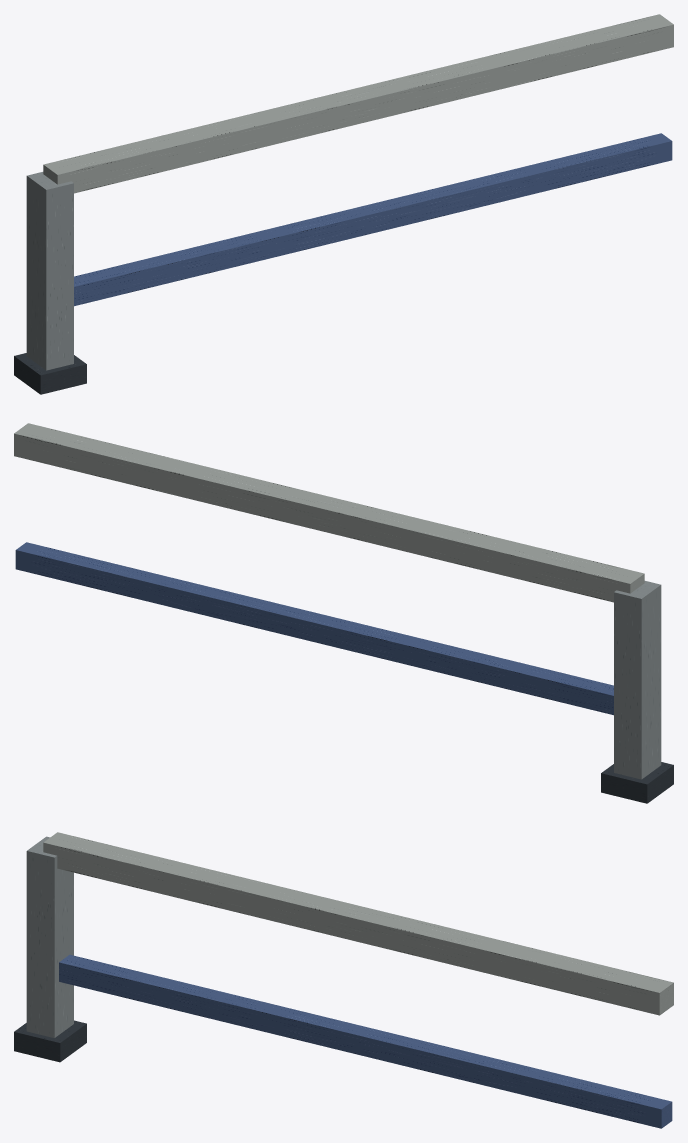
The model's file is Rail4m.fbx.
The picture shows the model from 3 angles, top to bottom: view 1: azimuth 30°, elevation 25°; view 2: azimuth 150°, elevation 25°; view 3: azimuth 330°, elevation 25°; orthographic projection.
Visible parts, largest first — view 1: Rail4m; view 2: Rail4m; view 3: Rail4m.
Part boxes in pixels (bbox=[...]): Rail4m: bbox=[14, 14, 673, 394]; Rail4m: bbox=[14, 423, 673, 803]; Rail4m: bbox=[14, 832, 673, 1128].
Size of the model in its own units: 415 by 130 by 30.
